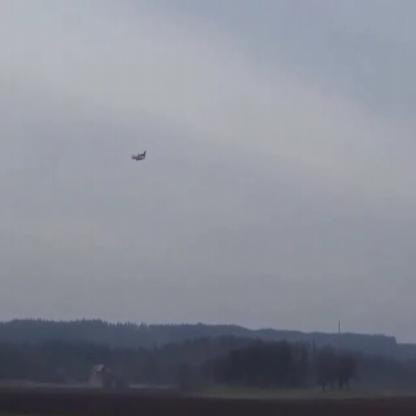CIV_Plane: (132, 150, 146, 162)
